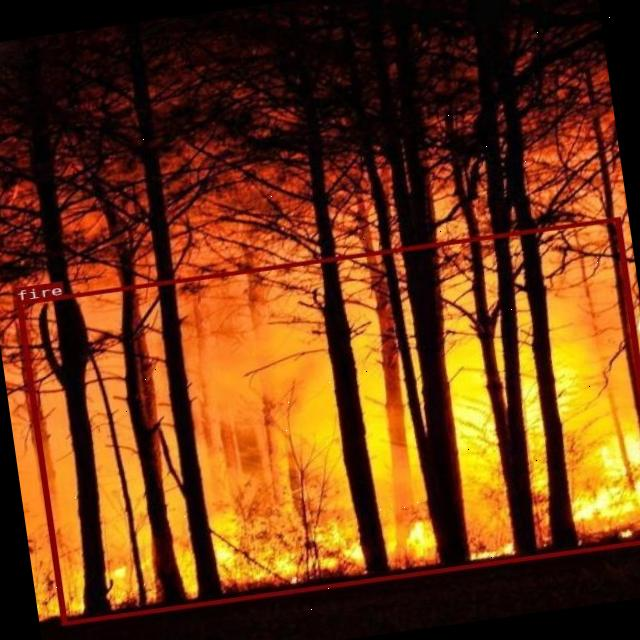fire: (15, 216, 640, 625)
